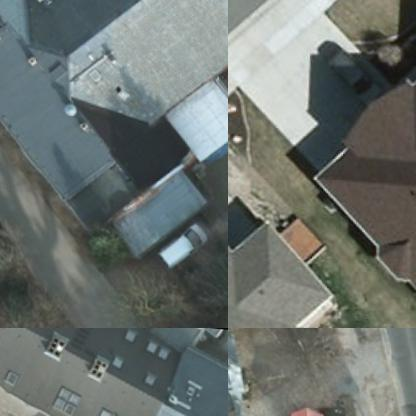car: (327, 42, 389, 99), (158, 211, 210, 262)
